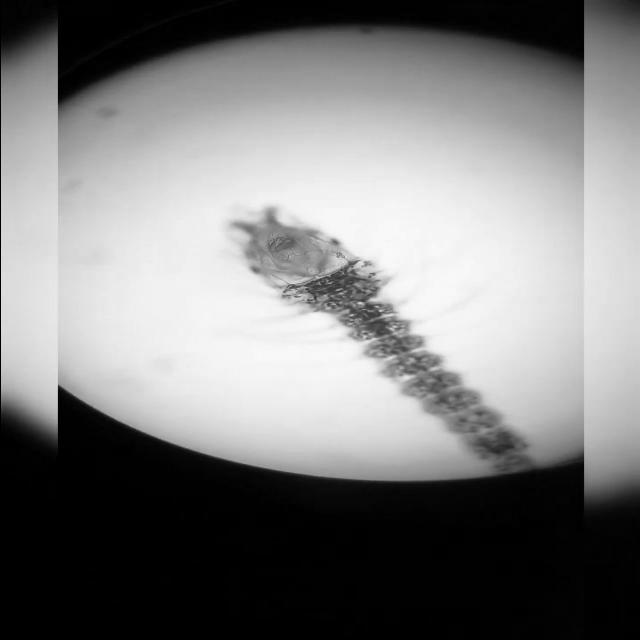larvas: (236, 208, 546, 470)
